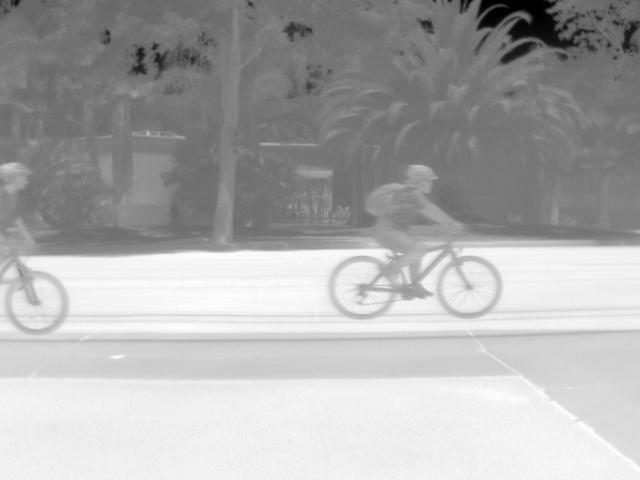person: (369, 162, 468, 300), (0, 160, 42, 250)
